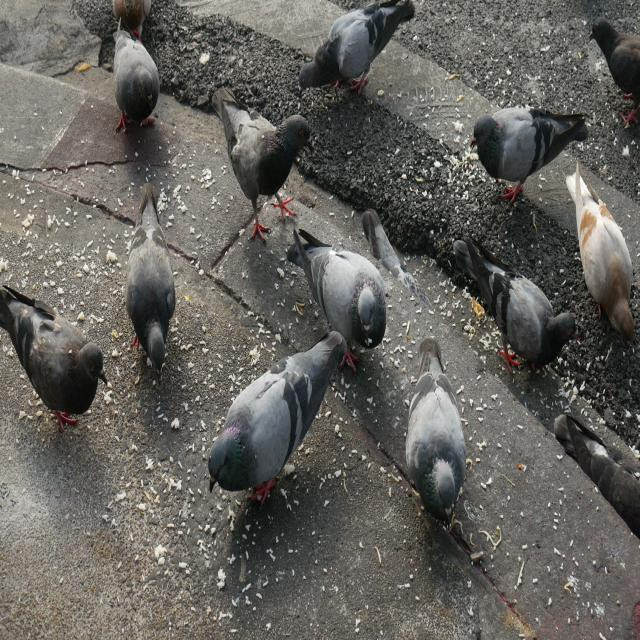bird: (204, 330, 349, 529), (3, 266, 112, 434), (211, 89, 315, 239), (406, 328, 471, 530), (468, 100, 597, 199), (566, 172, 638, 345), (478, 263, 582, 379), (290, 5, 418, 97), (129, 178, 176, 392), (305, 238, 384, 362), (103, 24, 166, 141), (584, 12, 640, 98)
